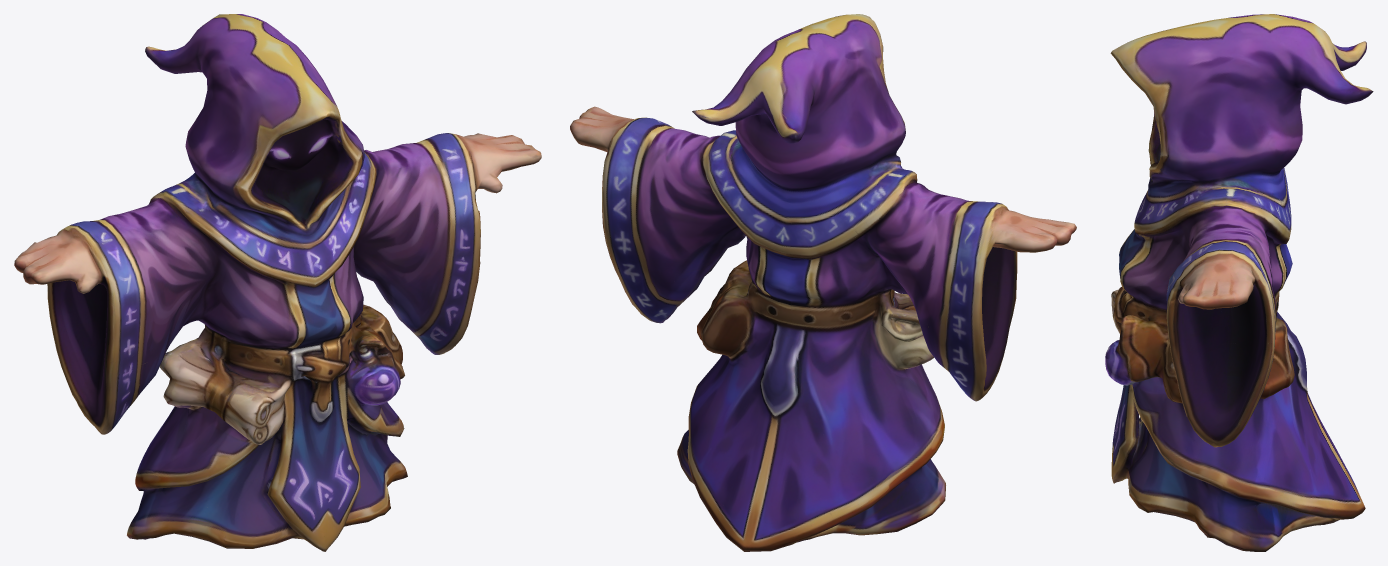
The model's file is T_Pose.fbx.
3 renders of one model, left to right at view 1: azimuth 30°, elevation 25°; view 2: azimuth 150°, elevation 25°; view 3: azimuth 270°, elevation 25°, orthographic. The views are drawn at different scales.
Parts seen in each view (by area): view 1: Mesh_0; view 2: Mesh_0; view 3: Mesh_0.
Boxes of the visible parts, <box> form: Mesh_0: <box>14,14,541,551</box>; Mesh_0: <box>570,14,1076,551</box>; Mesh_0: <box>1105,14,1373,551</box>.
Size of the model in its own units: 200 by 188 by 92.47.
Materials: 1 (1 with a texture image).
